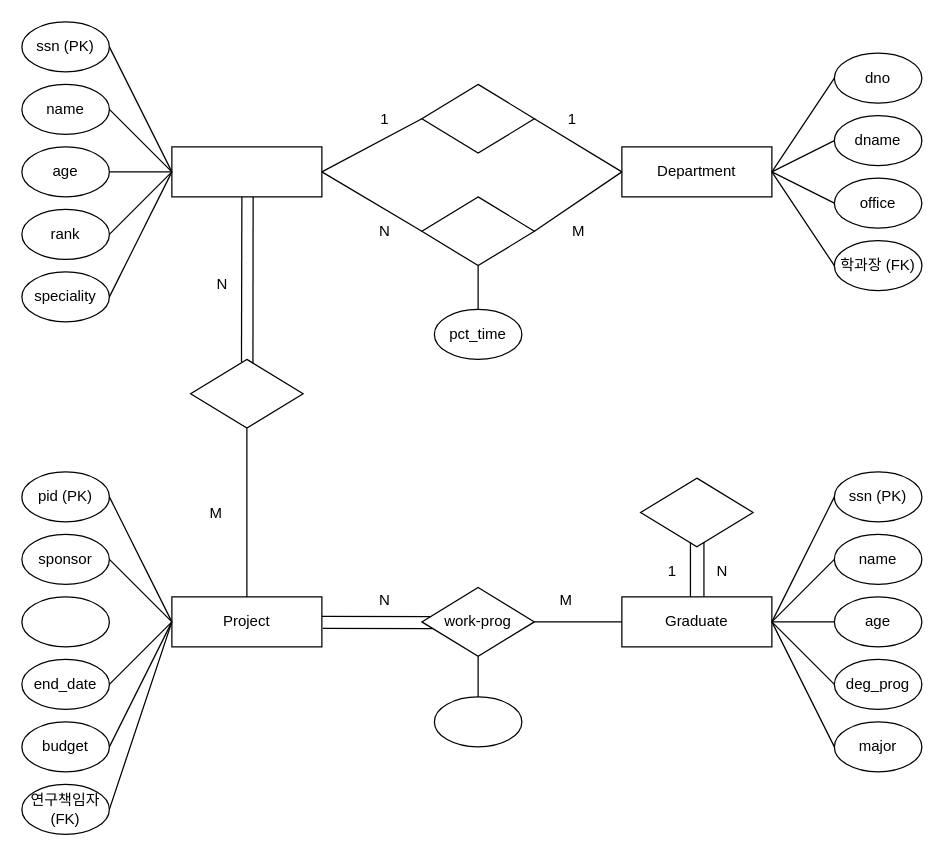
The diagram is 944 pixels wide and 856 high, and some of its shapes have lost their labels. Here are the shapes that lost their labels. From the top down, the centre of each, then its label:
At [477,118]: "run".
At [246,171]: "Professor".
At [477,231]: "work-dept".
At [246,393]: "work-in".
At [696,512]: "advisor".
At [65,621]: "start_date".
At [477,721]: "연구조교".
